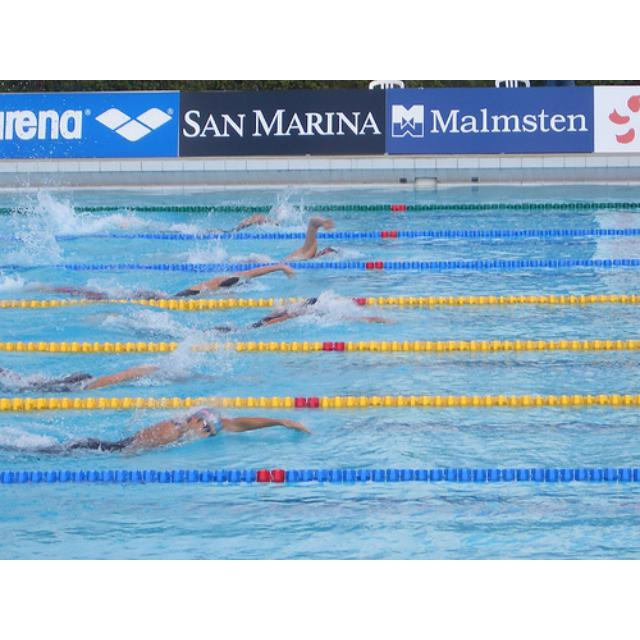human: (54, 407, 308, 459), (164, 259, 298, 298), (282, 217, 339, 261)
